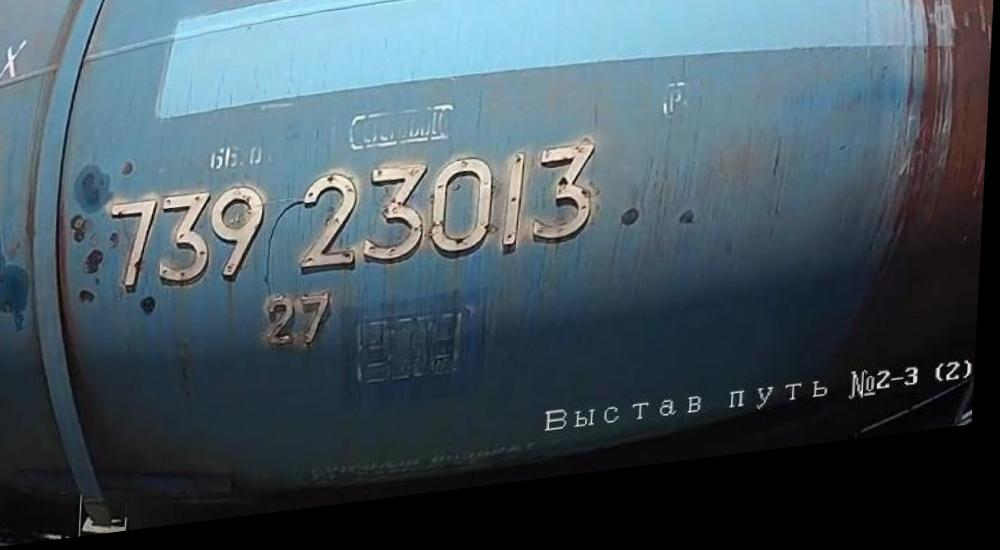Wagon-number: (101, 148, 604, 308)
